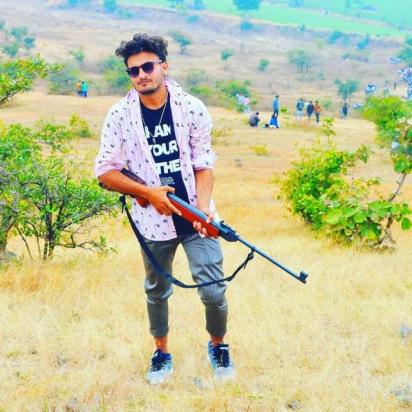Gun: (94, 158, 310, 286)
